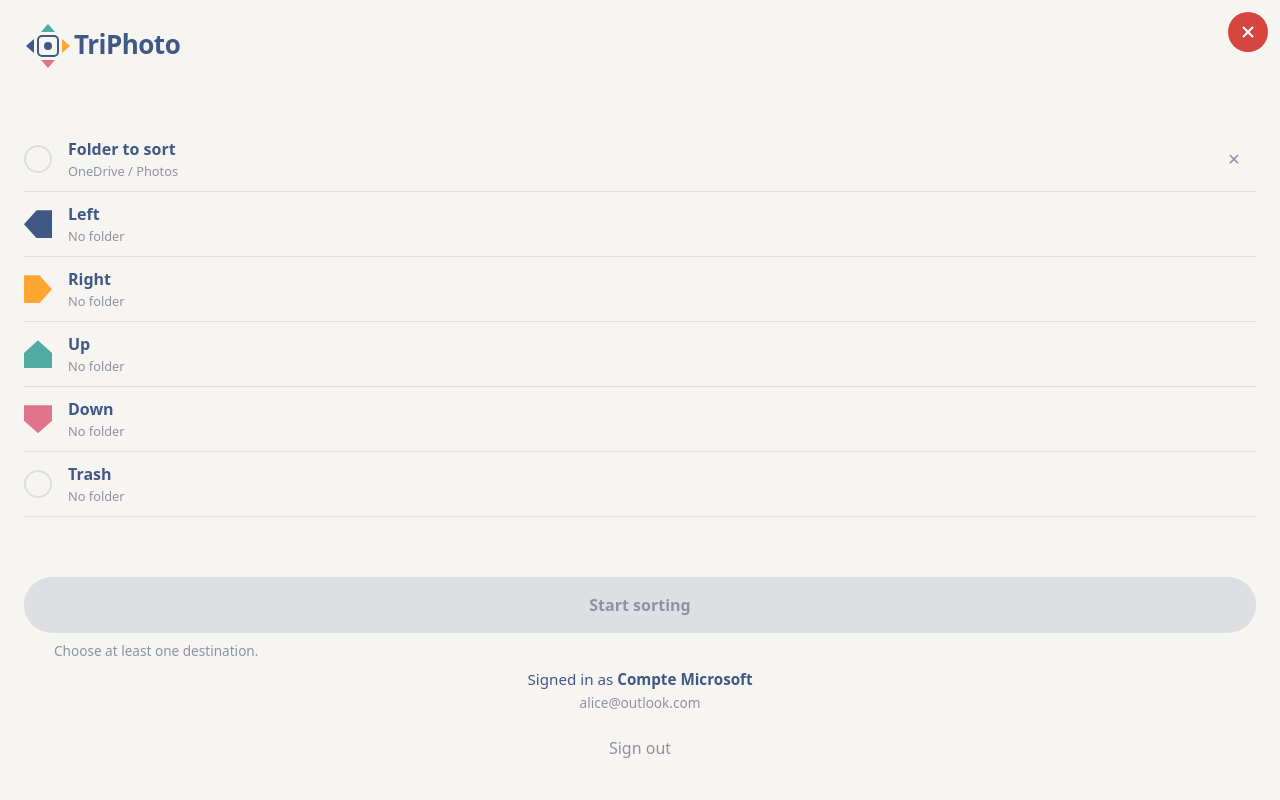
Scenario: écran de configuration › nomme une direction avec le nom du dossier choisi
Click the button "Left No folder" at x=84, y=214, box [24,192,1256,256]
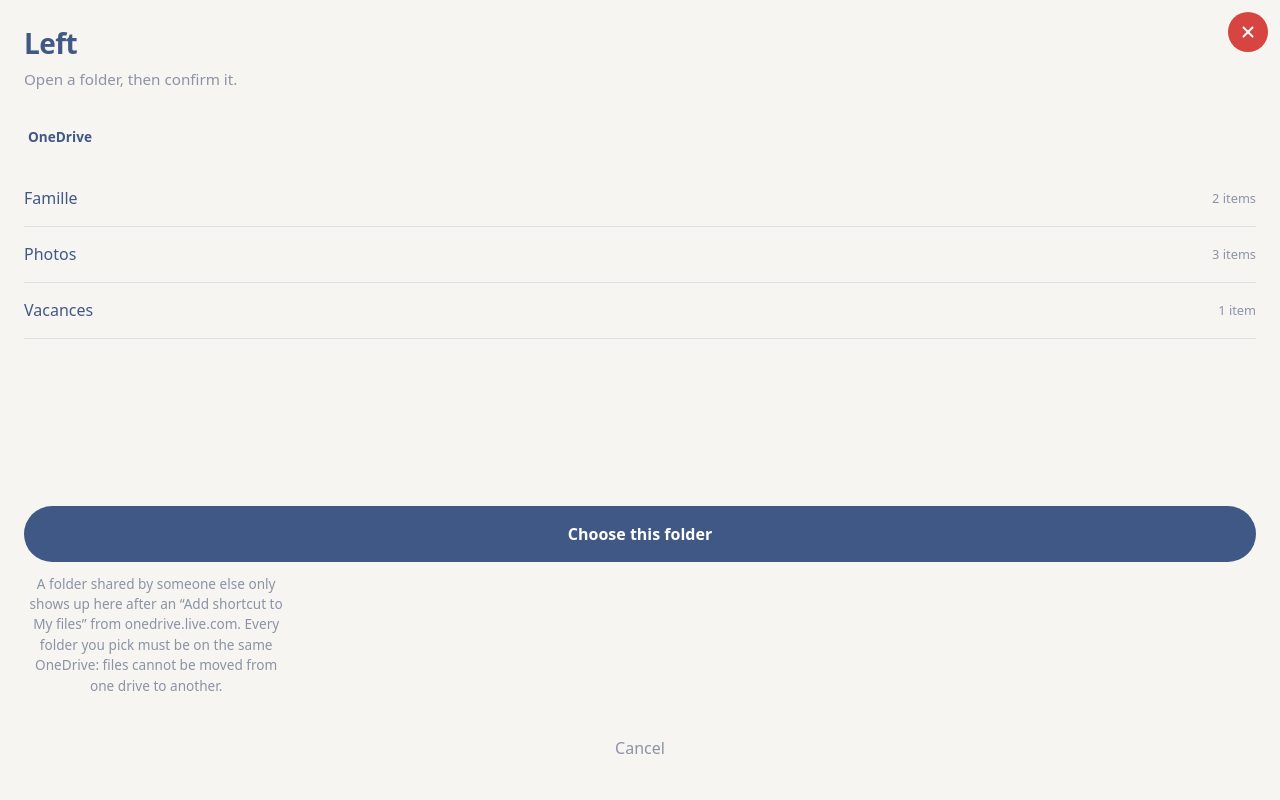
Click the button "Vacances 1 item" at x=59, y=310, box [24,283,1256,339]
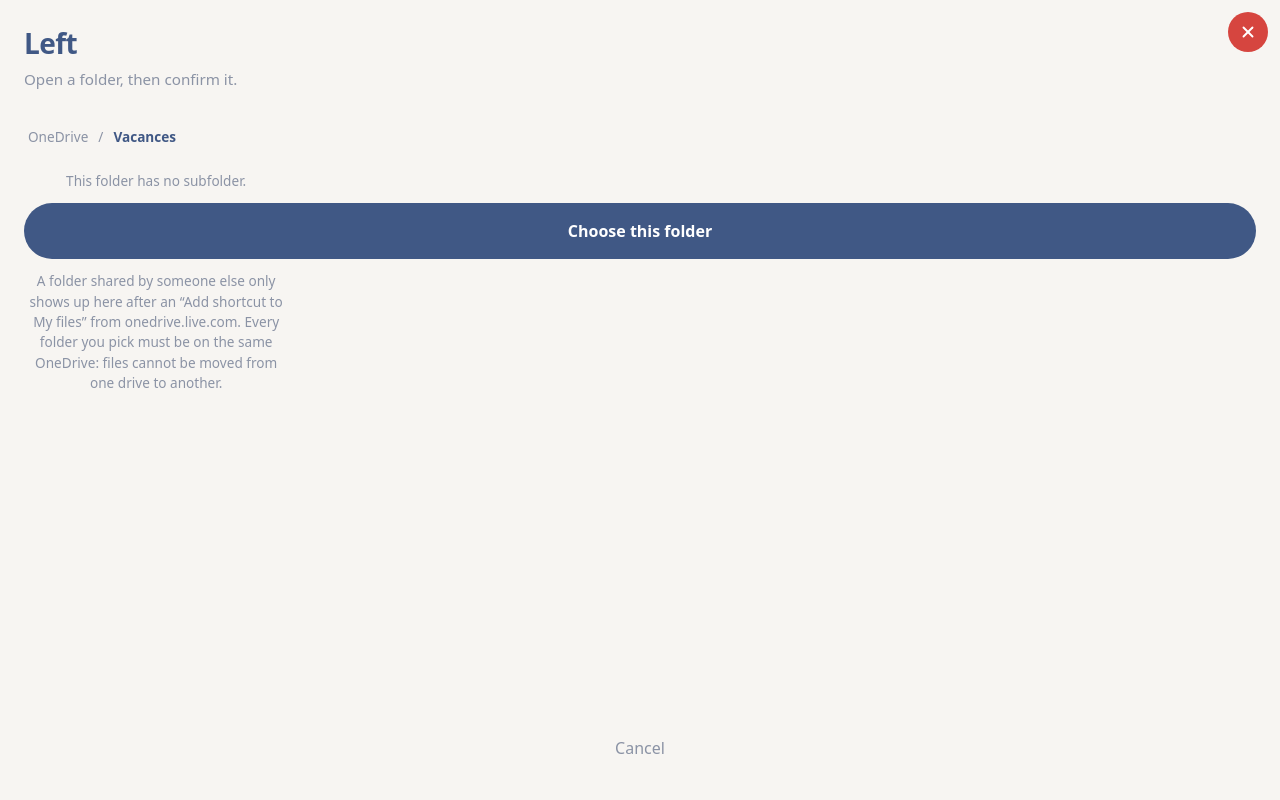
Click the button "Choose this folder" at x=640, y=231, box [24,203,1256,259]
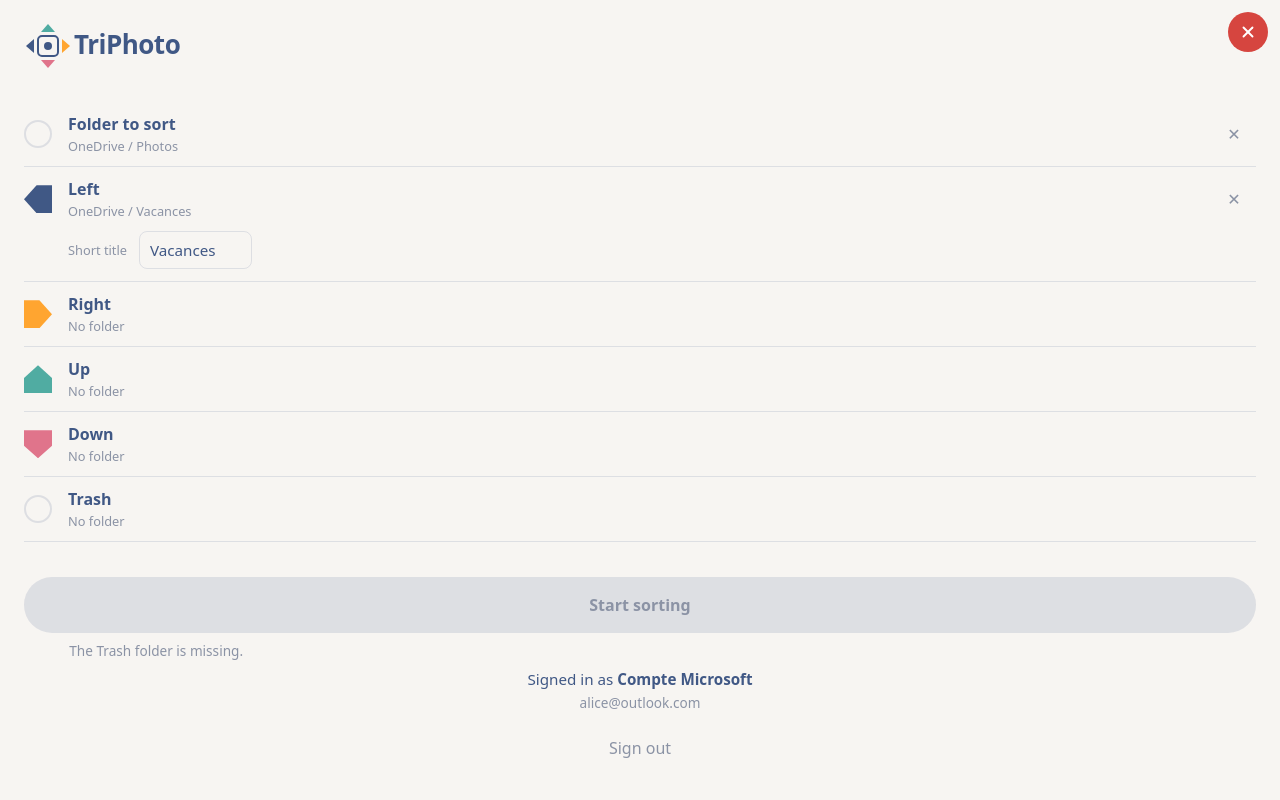
Check: the field named "Short title for “Left”" holds "Vacances", box [139,231,252,269]
